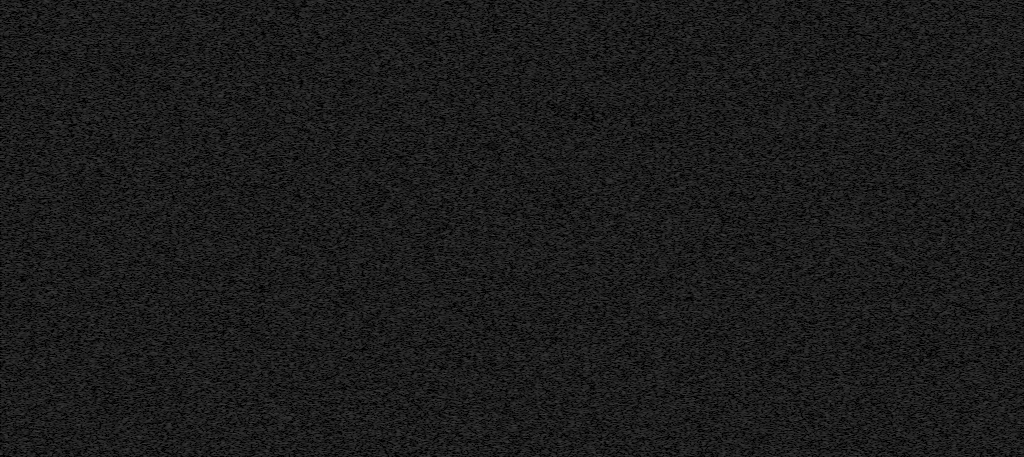wv_cw: (818, 0, 823, 457)
wv_lsb: (190, 406, 195, 452), (190, 359, 194, 396), (190, 47, 194, 71), (190, 289, 194, 310), (190, 89, 194, 105), (191, 106, 194, 126), (191, 72, 194, 88), (191, 12, 194, 26), (190, 267, 194, 277), (191, 28, 194, 40), (190, 227, 194, 235), (191, 332, 194, 341), (191, 397, 194, 405), (191, 127, 194, 135), (191, 349, 194, 355), (191, 342, 194, 348), (191, 154, 194, 160), (191, 136, 194, 142), (190, 453, 194, 457), (191, 261, 194, 266), (191, 237, 194, 242), (191, 177, 194, 182), (191, 247, 194, 251), (191, 219, 194, 223), (191, 193, 194, 197), (191, 326, 194, 329), (191, 320, 194, 323), (191, 311, 194, 314), (191, 257, 194, 260), (191, 214, 194, 217), (191, 210, 194, 213), (191, 201, 194, 204), (191, 183, 194, 186), (191, 161, 194, 164), (191, 150, 194, 153)
wv_usb: (903, 98, 909, 220), (903, 323, 909, 441), (261, 214, 265, 350), (260, 62, 265, 148), (261, 362, 265, 435), (261, 149, 265, 213), (904, 67, 908, 97), (904, 221, 908, 245), (261, 14, 265, 37), (261, 436, 265, 457), (904, 442, 908, 457), (904, 23, 908, 37), (904, 251, 908, 264), (904, 283, 908, 294), (904, 265, 908, 276), (904, 11, 908, 22), (261, 40, 265, 51), (904, 39, 908, 49), (261, 52, 265, 61), (261, 353, 265, 361), (904, 316, 908, 321), (904, 295, 908, 300), (904, 246, 908, 250), (905, 60, 908, 63)
wv_wbfm: (469, 0, 496, 457), (146, 0, 170, 457)
